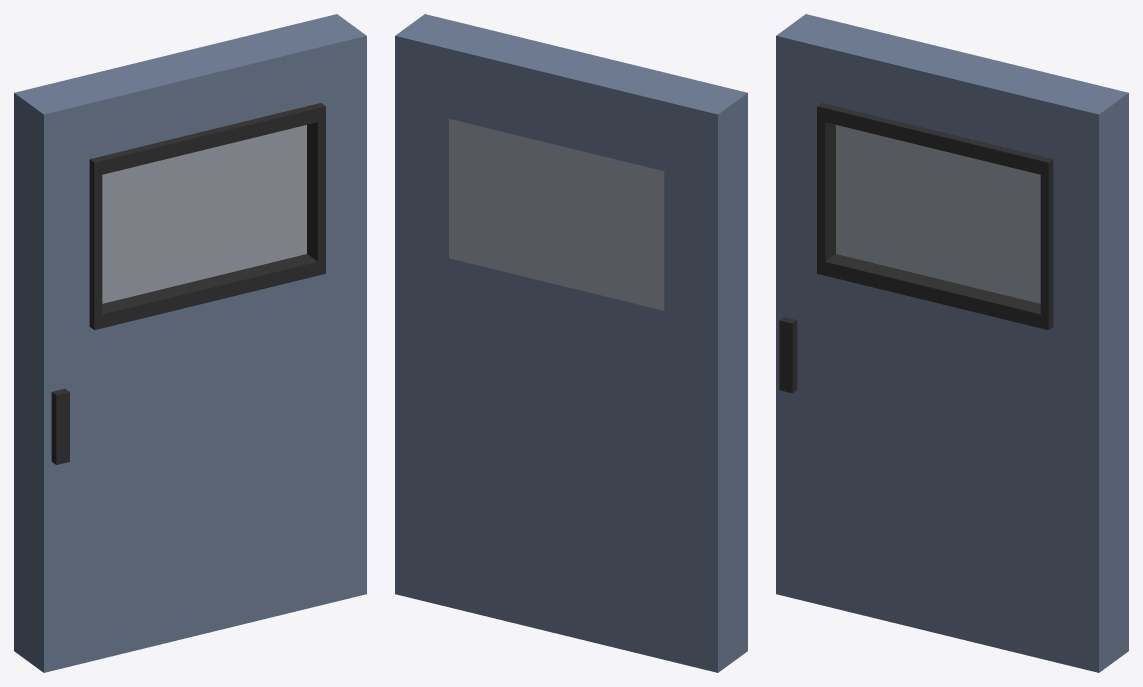
File: door.fbx
3 views of the same model, side by side, from view 1: azimuth 30°, elevation 25°; view 2: azimuth 150°, elevation 25°; view 3: azimuth 330°, elevation 25° (orthographic).
Parts seen in each view (by area): view 1: pCube3; view 2: pCube3; view 3: pCube3.
Part boxes in pixels (<box>): pCube3: <box>14,14,366,672</box>; pCube3: <box>395,14,747,672</box>; pCube3: <box>776,14,1128,672</box>.
Size of the model in its own units: 6.26 by 10.35 by 1.16.
